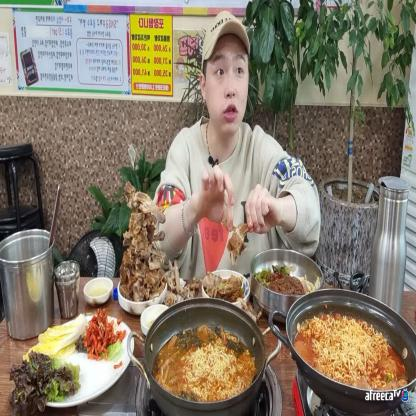streamer: (146, 9, 321, 275)
